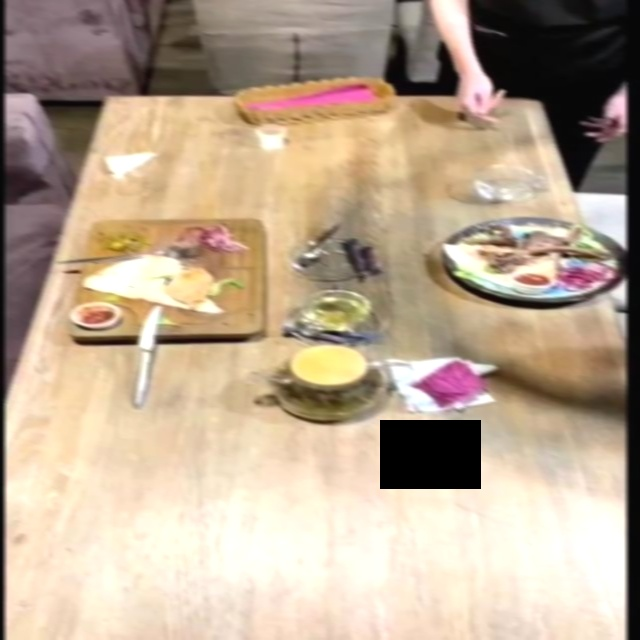meat: (67, 219, 267, 348), (420, 215, 640, 310)
tea: (267, 344, 386, 421)
